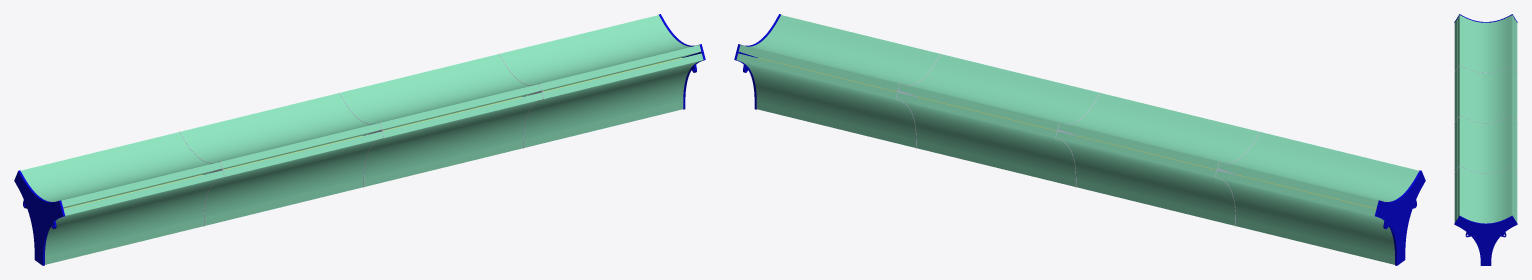
The picture shows the model from 3 angles, left to right: view 1: azimuth 30°, elevation 25°; view 2: azimuth 150°, elevation 25°; view 3: azimuth 270°, elevation 25°; orthographic projection. The views are drawn at different scales.
Bounding box in the file's own units: 2.02 × 0.2315 × 0.2673.
